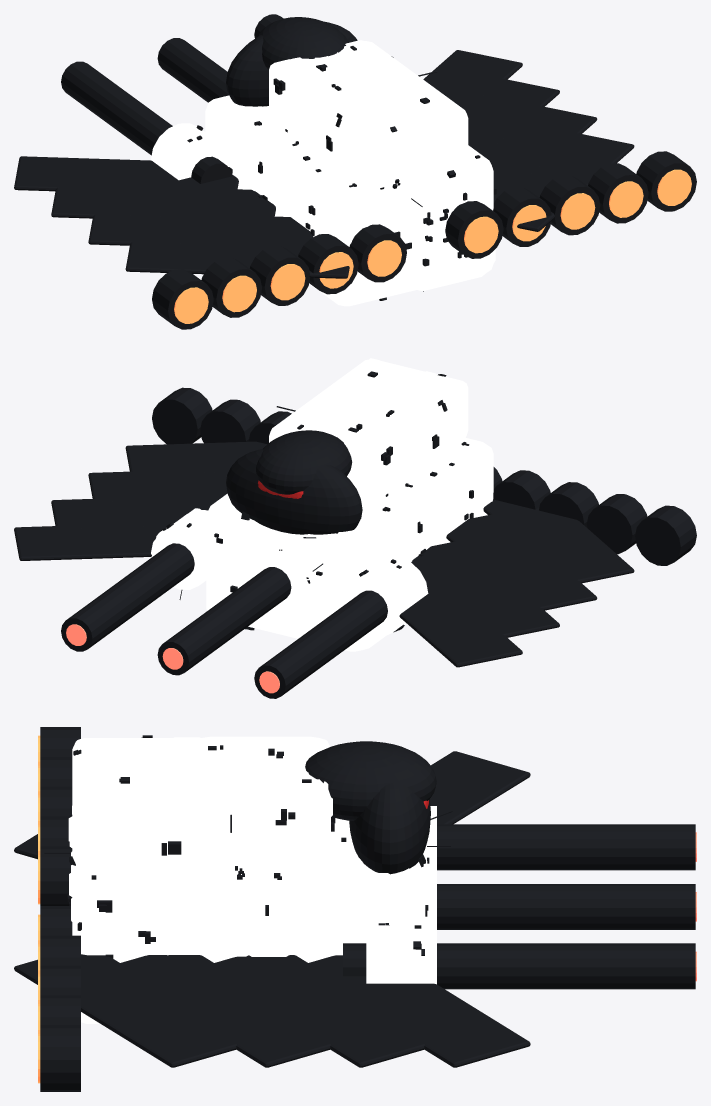
The model's file is tarkhan_titan.glb.
3 renders of one model, top to bottom at view 1: azimuth 30°, elevation 25°; view 2: azimuth 150°, elevation 25°; view 3: azimuth 270°, elevation 25°, orthographic. The views are drawn at different scales.
Visible parts, largest first — view 1: tarkhan_titan; view 2: tarkhan_titan; view 3: tarkhan_titan.
Boxes of the visible parts, left/top/right/bottom form: tarkhan_titan: left=14, top=14, right=696, bottom=329; tarkhan_titan: left=14, top=358, right=696, bottom=698; tarkhan_titan: left=14, top=727, right=696, bottom=1091.
Bounding box in the file's own units: 11.31 × 4.16 × 10.
